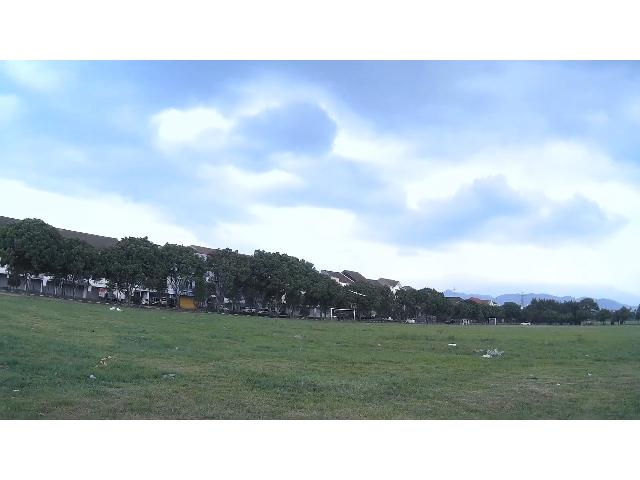Anti-Drone: (344, 284, 378, 304)
